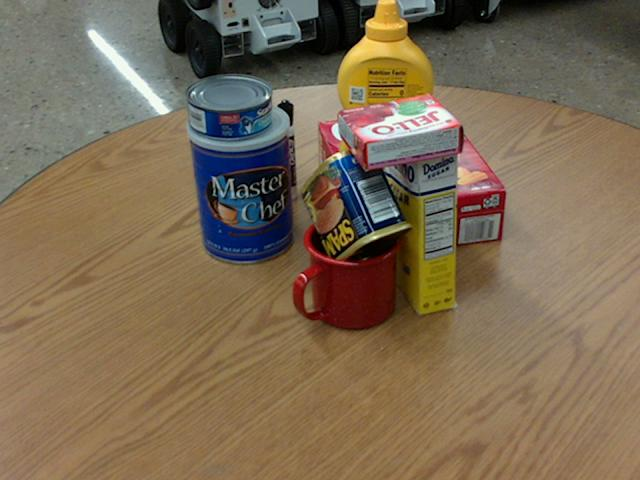cracker_box: (316, 107, 503, 257)
gelatin_box: (338, 93, 462, 169)
large_marker: (276, 101, 296, 201)
master_chef_can: (186, 99, 295, 262)
mug: (289, 213, 400, 331)
mustard_bottle: (337, 0, 433, 191)
potted_meat_can: (299, 146, 412, 271)
sugar_box: (380, 107, 456, 316)
tomato_soup_can: (360, 41, 420, 147)
tuna_fish_can: (184, 74, 271, 139)
